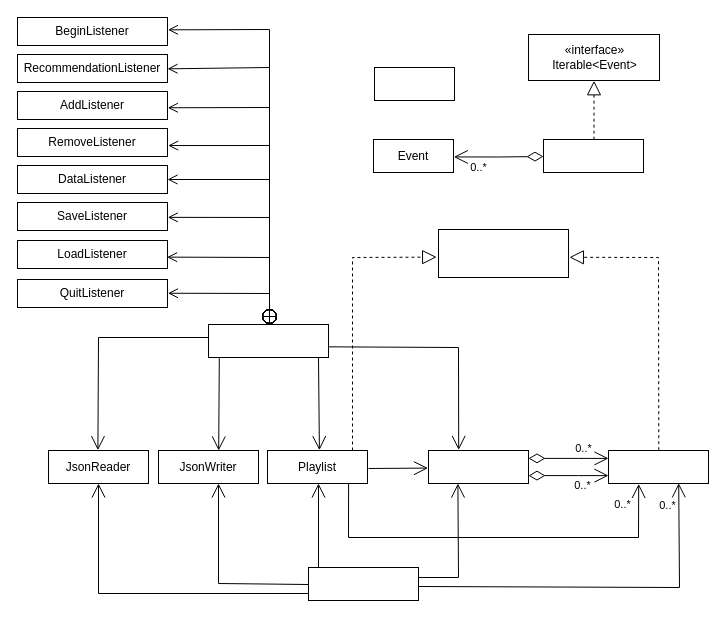
This 726x625 diagram has some shape labels left out. The shapes that lost their labels are listed below. From the top down, each one's box as (x1, y1, x2, y2) in pixels, then its label:
(374, 66, 454, 100): Main
(542, 138, 644, 172): EventLog
(438, 228, 568, 278): «interface» Writable
(208, 324, 328, 358): MusicRecAppUI
(428, 450, 528, 484): SongBank
(608, 450, 708, 484): Song
(308, 566, 418, 600): MusicRecApp
